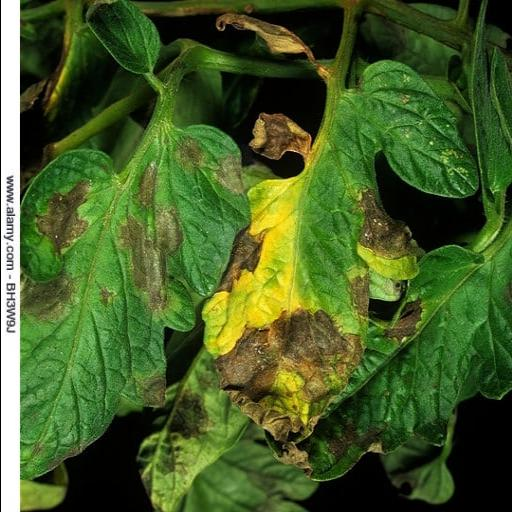disease_tomato: (200, 60, 478, 469), (19, 122, 251, 478), (265, 244, 512, 481)
